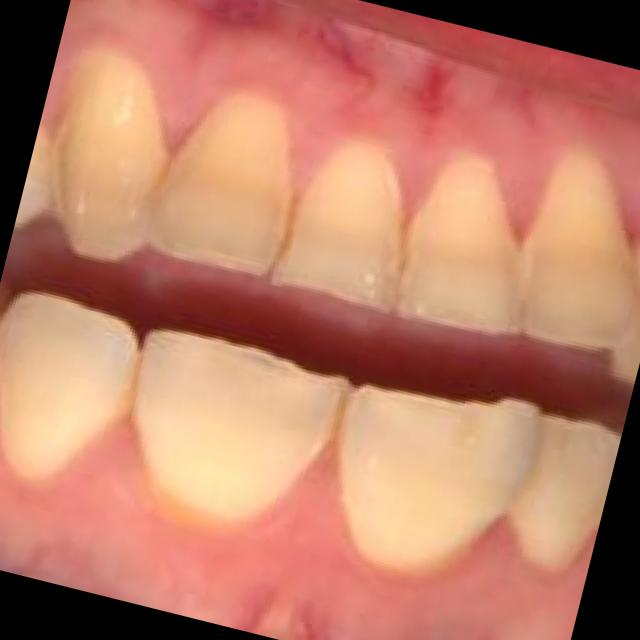karies: (312, 389, 362, 454), (268, 202, 310, 262), (383, 219, 418, 285), (116, 357, 150, 413)
